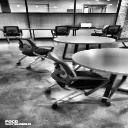chair_fail: (47, 52, 109, 90)
